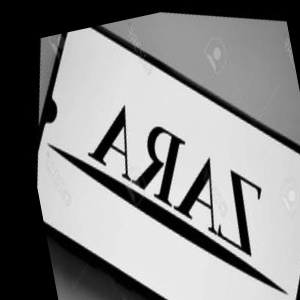mango: (38, 144, 84, 300)
zara: (262, 18, 275, 74)
